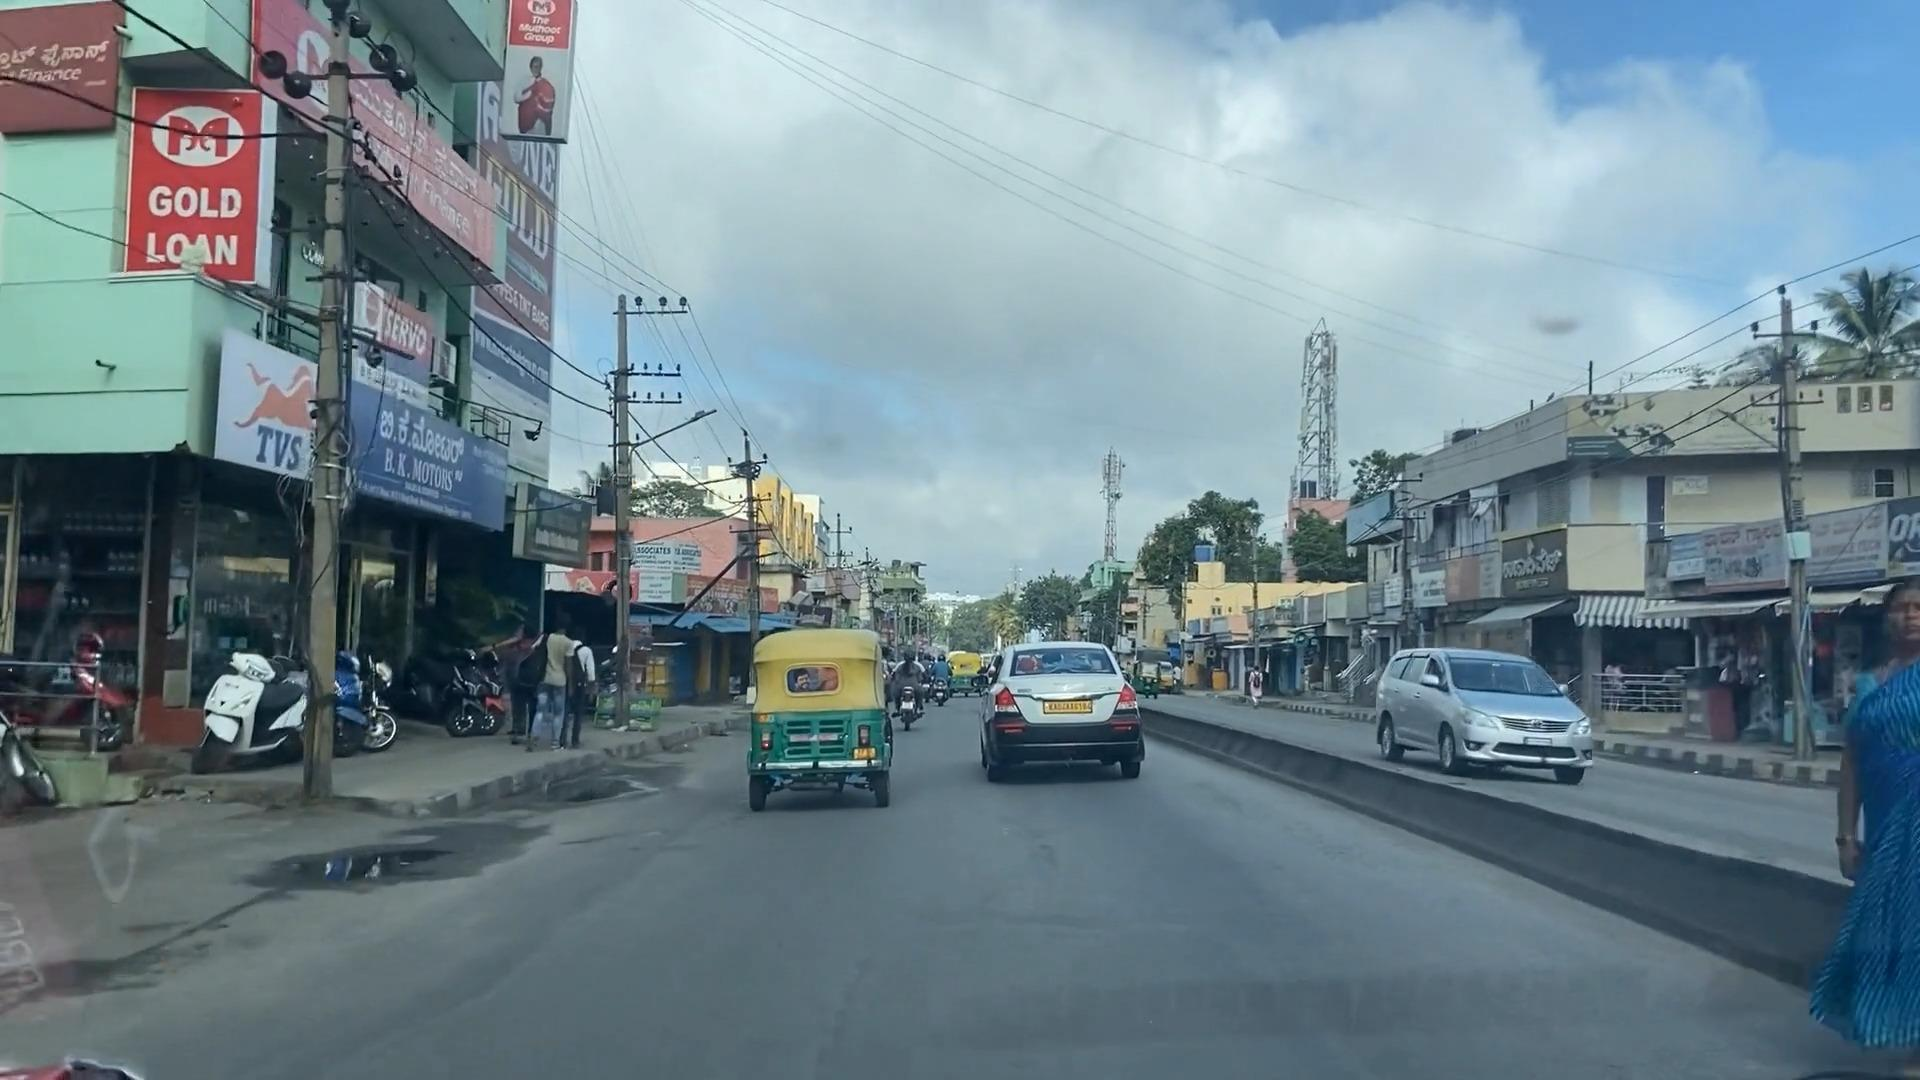LMV: (750, 625, 897, 799), (965, 638, 1137, 778)
